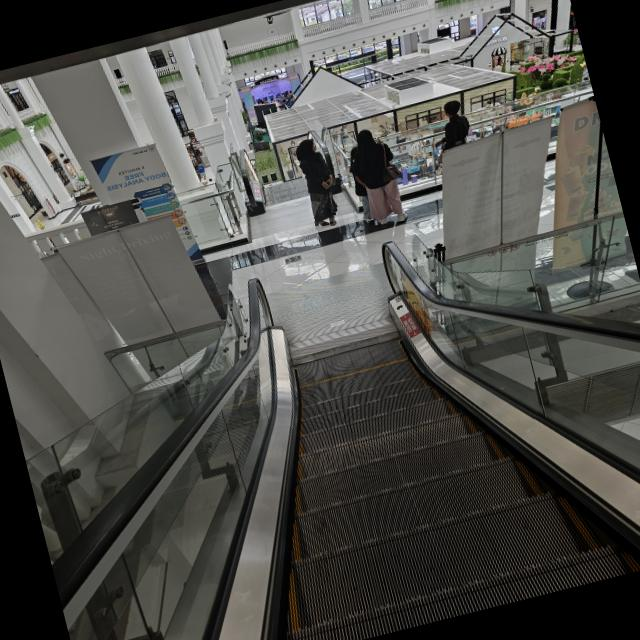escalator: (190, 246, 571, 640)
person: (342, 123, 411, 230), (293, 135, 344, 229), (344, 145, 377, 224)
